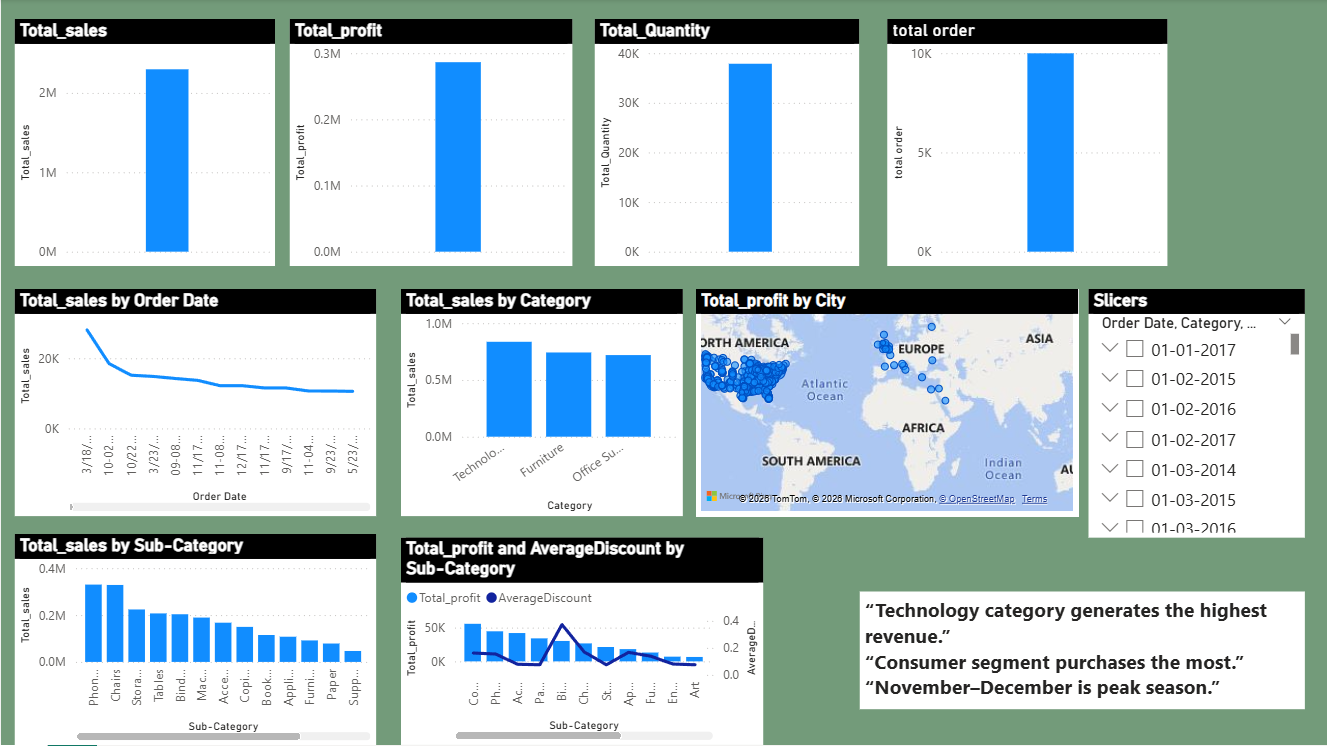

This screenshot's page, from the dashboard's own definition file:
{"tool":"powerbi","page":{"name":"Page 1","canvas":[1280,720],"ordinal":0},"visuals":[{"type":"clusteredColumnChart","fields":{"Y":["Sheet1.Total_sales"]},"box":[13.7,19.2,251.1,238.8],"z":0},{"type":"clusteredColumnChart","fields":{"Y":["Sheet1.Total_profit"]},"box":[278.6,19.2,273.1,238.8],"z":1000},{"type":"clusteredColumnChart","fields":{"Y":["Sheet1.Total_Quantity"]},"box":[573.6,19.2,255.2,238.8],"z":2000},{"type":"columnChart","fields":{"Y":["Sheet1.total order"]},"box":[854.9,19.2,270.3,238.8],"z":3000},{"type":"lineChart","fields":{"Y":["Sheet1.Total_sales"],"Category":["Sheet1.Order Date"]},"box":[13.7,279.9,348.5,219.6],"z":4000},{"type":"clusteredColumnChart","fields":{"Y":["Sheet1.Total_sales"],"Category":["Sheet1.Sub-Category"]},"box":[13.7,516,348.5,204.5],"z":5000},{"type":"clusteredColumnChart","fields":{"Category":["Sheet1.Category"],"Y":["Sheet1.Total_sales"]},"box":[385.6,279.9,271.7,219.6],"z":6000},{"type":"lineClusteredColumnComboChart","fields":{"Y2":["Sheet1.AverageDiscount"],"Y":["Sheet1.Total_profit"],"Category":["Sheet1.Sub-Category"]},"box":[385.6,520.1,349.9,200.3],"z":7000},{"type":"slicer","title":"Slicers","fields":{"Values":["Sheet1.Order Date","Sheet1.Category","Sheet1.Region","Sheet1.Segment"]},"box":[1049.7,279.9,208.6,240.1],"z":8000},{"type":"map","fields":{"Category":["Sheet1.City"],"Size":["Sheet1.Total_profit"]},"box":[671,279.9,369.1,219.6],"z":9000},{"type":"textbox","box":[828.8,572.2,429.5,113.9],"z":9001}]}

Visuals, with their boxes in screenshot pixels (x1, y1, x2, y2), scaled from the page's 1280x720 canvas onto the 1327x746 screenshot:
clusteredColumnChart - Sheet1.Total_sales: l=14, t=20, r=275, b=267
clusteredColumnChart - Sheet1.Total_profit: l=289, t=20, r=572, b=267
clusteredColumnChart - Sheet1.Total_Quantity: l=595, t=20, r=859, b=267
columnChart - Sheet1.total order: l=886, t=20, r=1167, b=267
lineChart - Sheet1.Total_sales x Sheet1.Order Date: l=14, t=290, r=375, b=518
clusteredColumnChart - Sheet1.Total_sales x Sheet1.Sub-Category: l=14, t=535, r=375, b=745
clusteredColumnChart - Sheet1.Category x Sheet1.Total_sales: l=400, t=290, r=681, b=518
lineClusteredColumnComboChart - Sheet1.AverageDiscount x Sheet1.Total_profit: l=400, t=539, r=763, b=745
"Slicers" slicer: l=1088, t=290, r=1305, b=539
map - Sheet1.City x Sheet1.Total_profit: l=696, t=290, r=1078, b=518
textbox: l=859, t=593, r=1305, b=711
